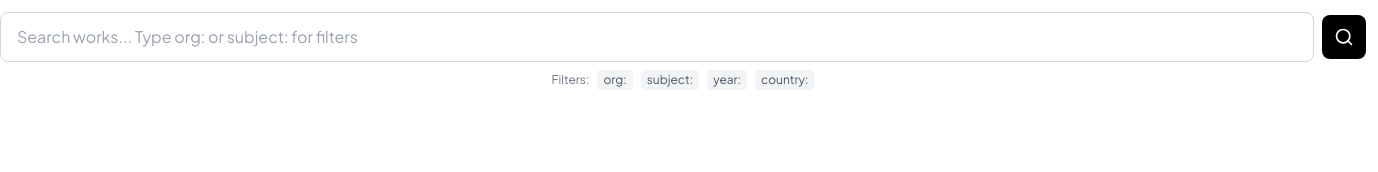
it: FieldedSearchBar › Field Prefix Detection › detects year: prefix and shows suggestions
This screenshot has width=1378, height=172.
In the field with placeholder "Search works... Type org: or subject: for filters": (657,37) [13, 21, 1301, 53], type "year:"
Wait 100 ms
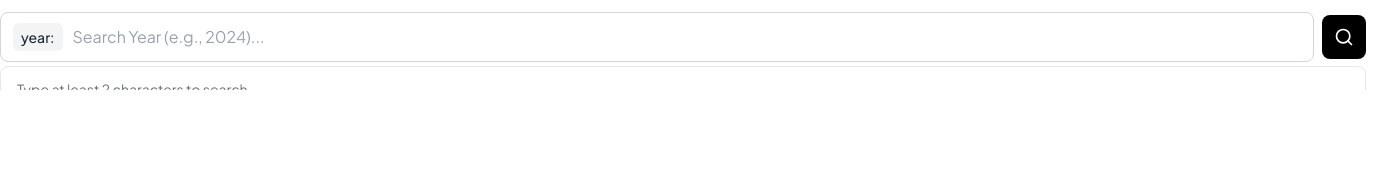
Expected: the field with placeholder "Search Year (e.g., 2024)..." is shown, [68, 21, 1301, 53]
